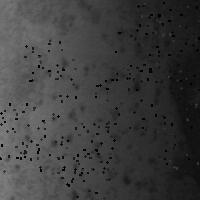pitted_surface: (30, 5, 159, 192), (95, 69, 151, 129), (55, 123, 113, 180), (140, 44, 196, 103), (24, 40, 75, 100), (111, 31, 169, 81), (4, 103, 57, 157), (154, 114, 200, 170), (141, 0, 200, 42), (0, 110, 40, 170), (161, 50, 200, 108), (66, 153, 114, 200), (134, 0, 183, 40)
